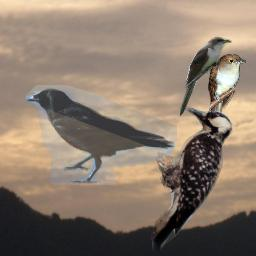Crow: (25, 85, 177, 185)
Cuckoo: (177, 36, 232, 118), (202, 53, 246, 144)
Woodpecker: (148, 106, 242, 256)
